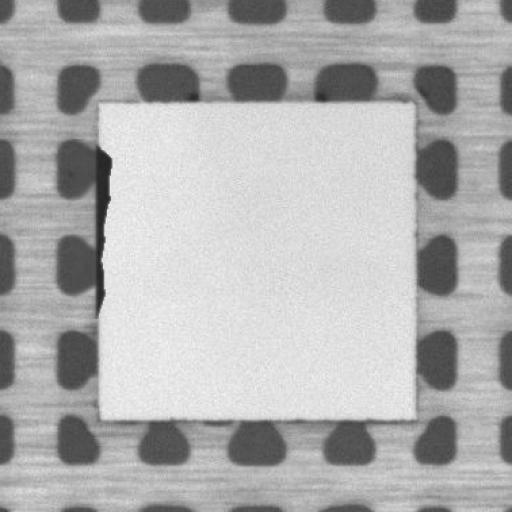DIE_BROKEN: (91, 143, 114, 318)
